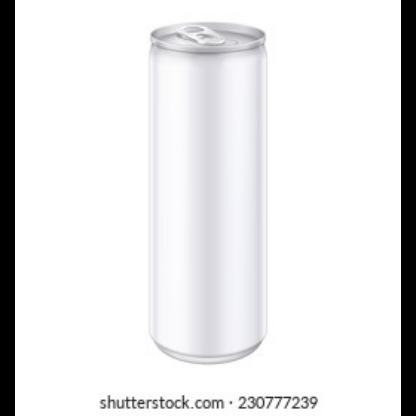Tin_Can: (144, 22, 268, 380)
